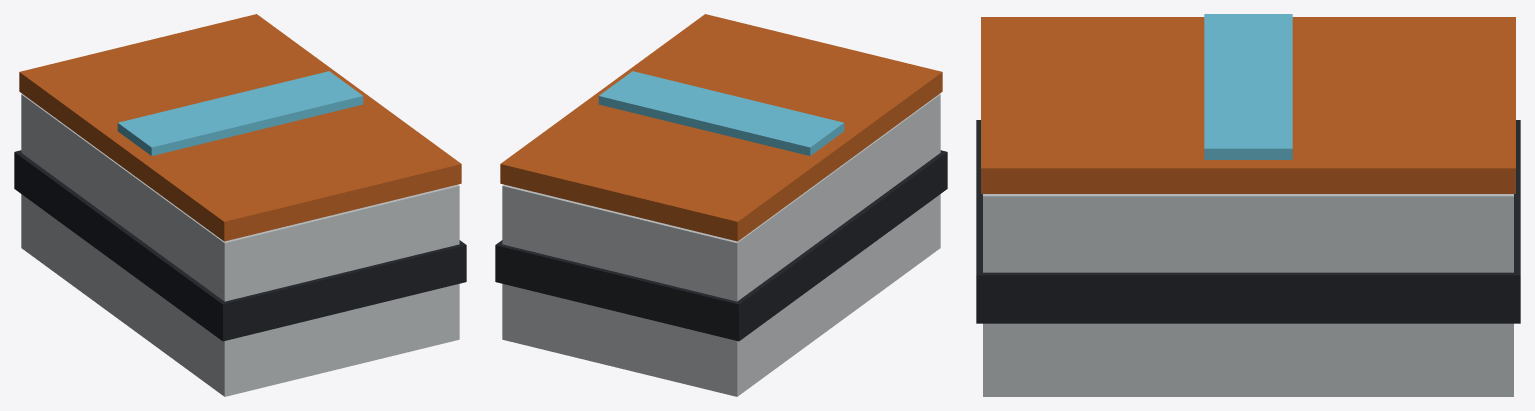
File: pazaak-deck.lod.glb
The picture shows the model from 3 angles, left to right: view 1: azimuth 30°, elevation 25°; view 2: azimuth 150°, elevation 25°; view 3: azimuth 270°, elevation 25°; orthographic projection. The views are drawn at different scales.
Visible parts, largest first — view 1: m; view 2: m; view 3: m.
Part boxes in pixels (x1,y1,x2,y2): m: [14, 14, 466, 396]; m: [495, 14, 947, 396]; m: [976, 14, 1520, 396].
Size of the model in its own units: 0.0405 by 0.0293 by 0.06.
